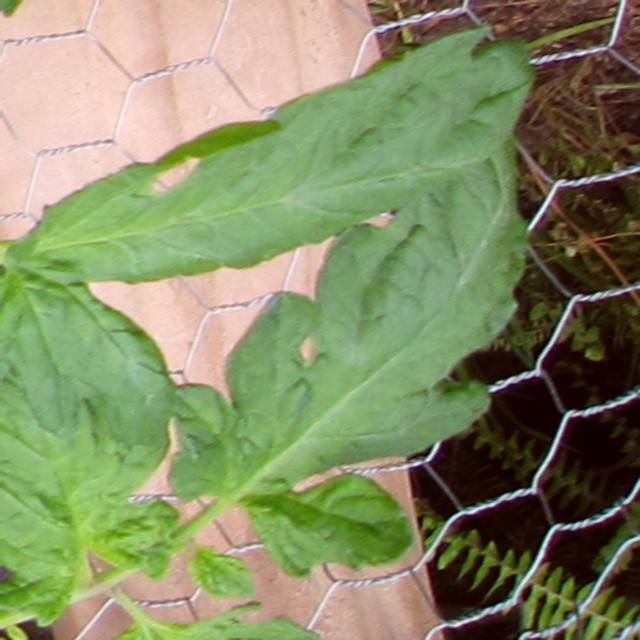Tomato leaf: (15, 0, 534, 331)
